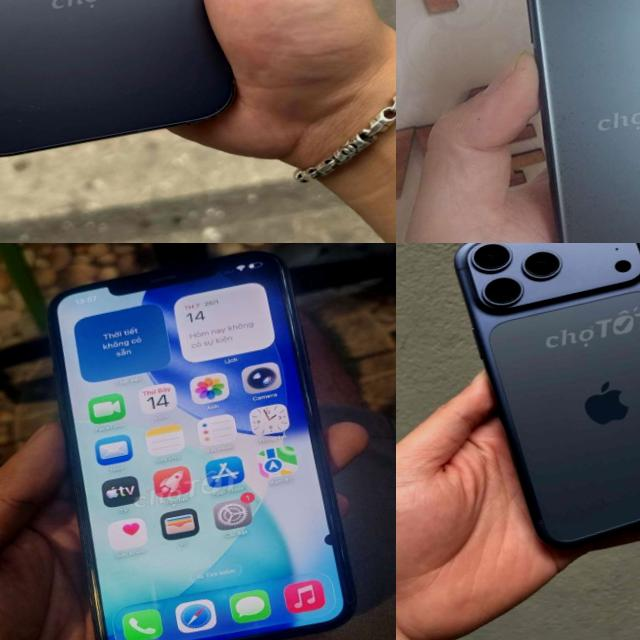gen_11: (26, 243, 376, 640), (470, 0, 640, 243)
gen_14: (0, 0, 254, 167)
gen_17: (441, 243, 640, 571)
screen_defect: (318, 520, 354, 560)
